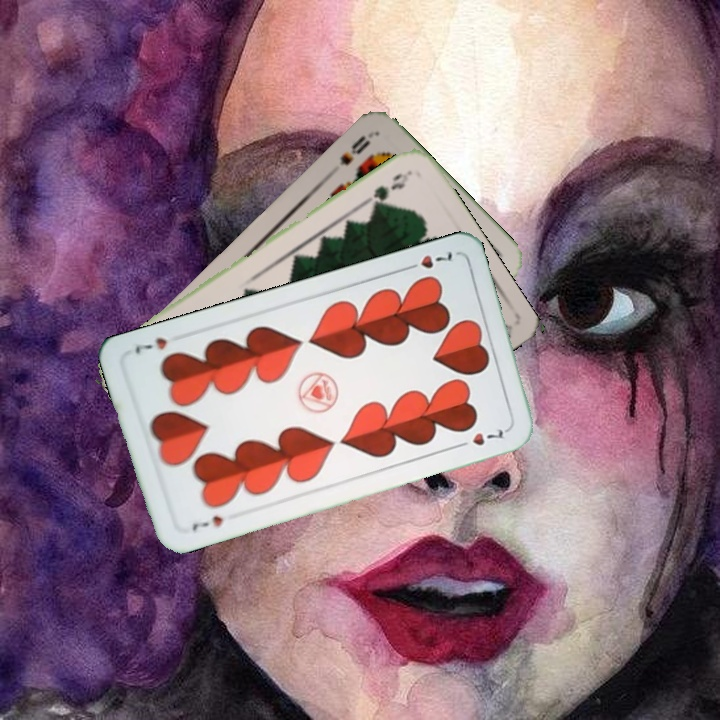G9: (361, 167, 413, 211)
H7: (400, 247, 457, 273), (188, 511, 226, 533)
S8: (335, 129, 375, 168)
